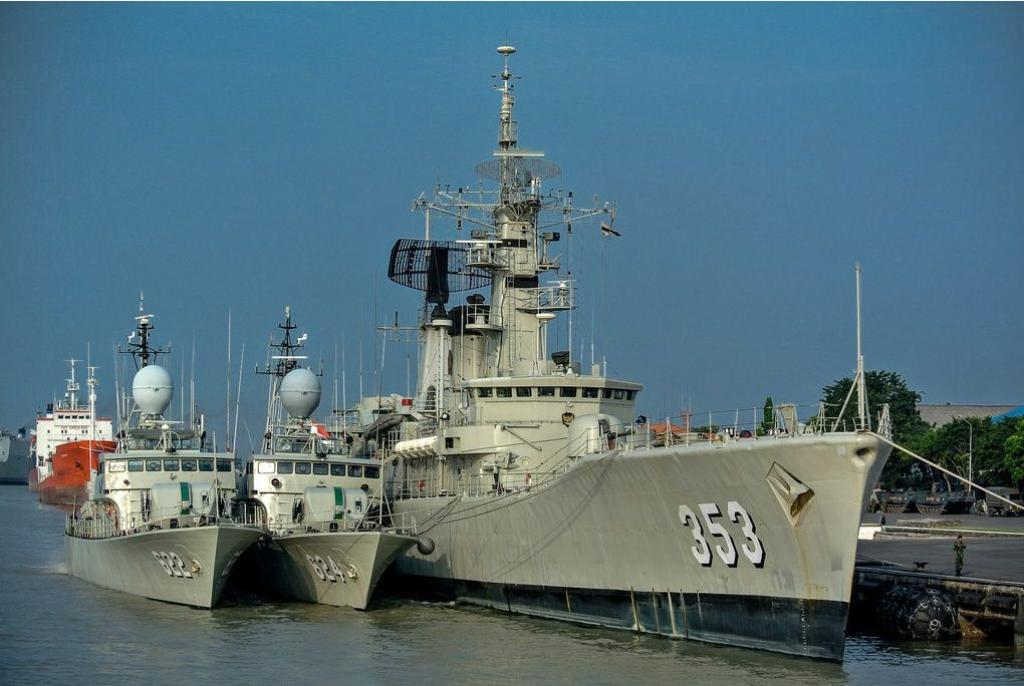Warship: (372, 40, 898, 666), (62, 288, 264, 612), (244, 303, 416, 610)
